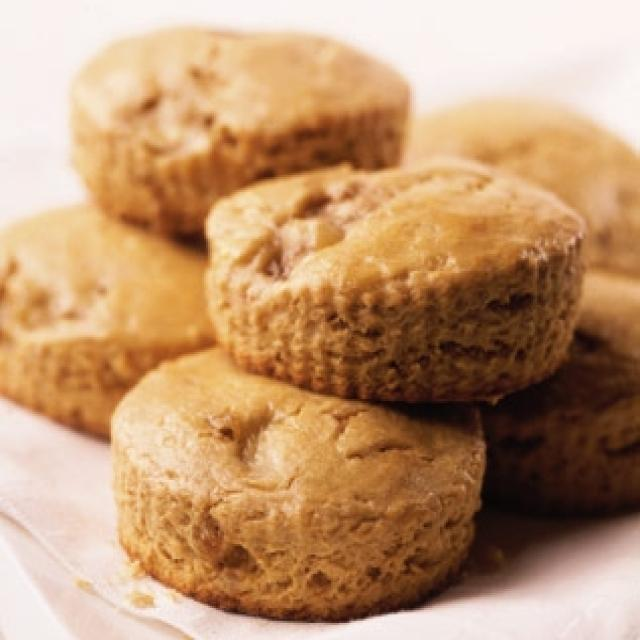面包点心: (12, 15, 626, 612)
